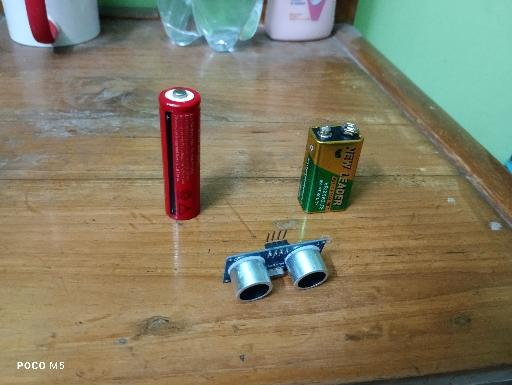Battery: (297, 122, 364, 214), (158, 86, 201, 221)
sensor: (223, 229, 329, 303)
